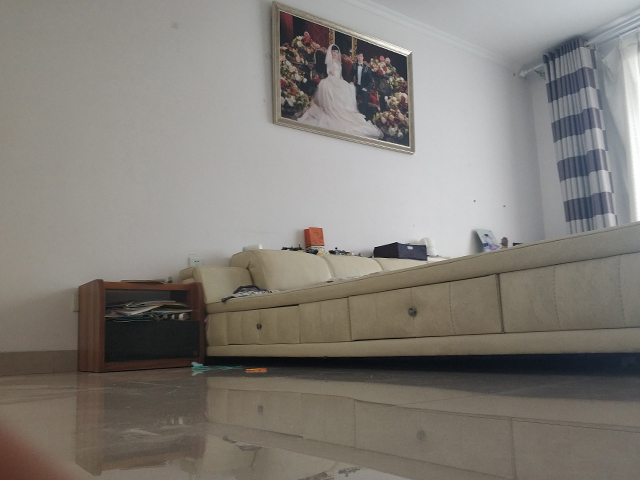bed: (175, 220, 640, 374)
cabinet: (75, 278, 208, 373)
curtain: (537, 32, 619, 230)
